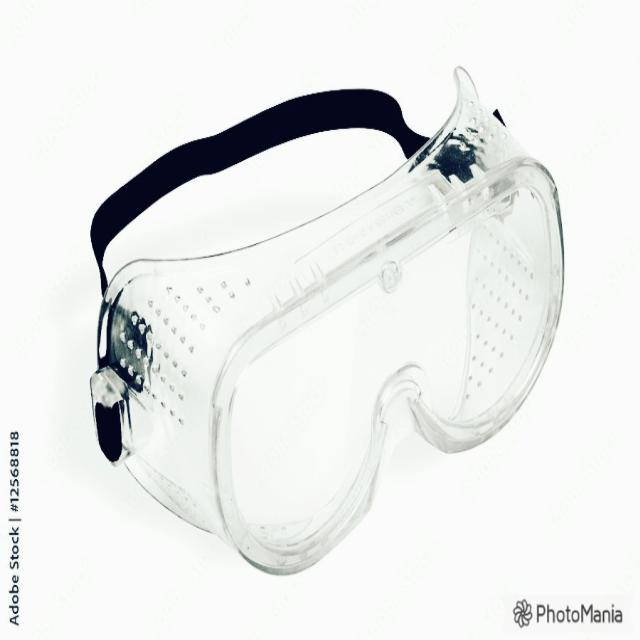Goggles: (68, 52, 600, 580)
